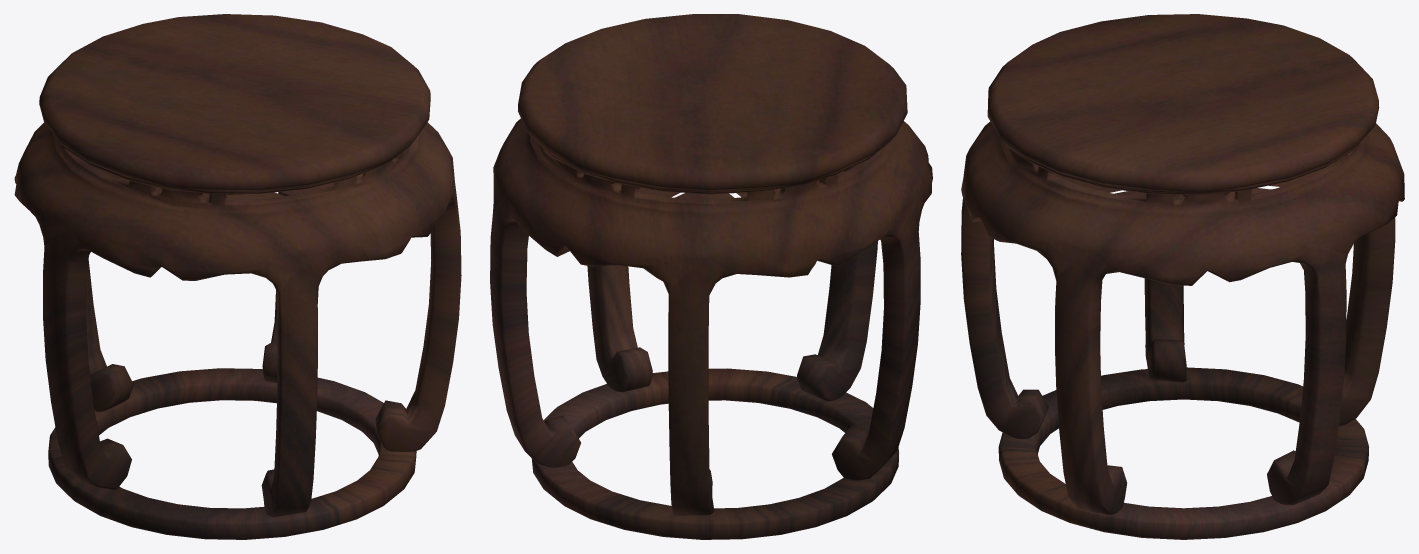
File: 0238c7d1-d39e-4365-8f71-76abed343835.gltf
3 views of the same model, side by side, from view 1: azimuth 30°, elevation 25°; view 2: azimuth 150°, elevation 25°; view 3: azimuth 270°, elevation 25° (orthographic).
Parts seen in each view (by area): view 1: 木凳2; view 2: 木凳2; view 3: 木凳2.
Boxes of the visible parts, x1,y1,x2,y2 form: 木凳2: (14,14,461,539); 木凳2: (490,14,932,539); 木凳2: (961,14,1404,539).
Size of the model in its own units: 0.721 by 0.6604 by 0.7145.
1 material, 1 textured.
